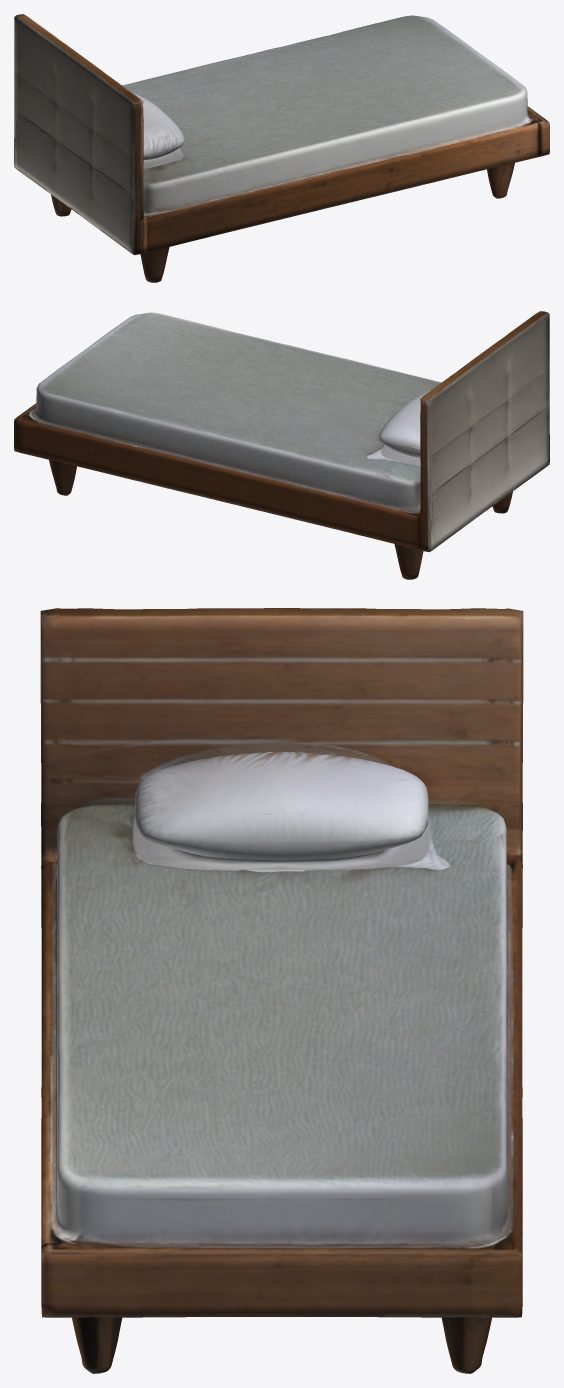
The model's file is bed-1.glb.
3 views of the same model, one above another, from view 1: azimuth 30°, elevation 25°; view 2: azimuth 150°, elevation 25°; view 3: azimuth 270°, elevation 25° (orthographic). The views are drawn at different scales.
Visible parts, largest first — view 1: Mesh1_Mesh1.024; view 2: Mesh1_Mesh1.024; view 3: Mesh1_Mesh1.024.
Boxes of the visible parts, bbox=[...] form: Mesh1_Mesh1.024: bbox=[14, 14, 549, 282]; Mesh1_Mesh1.024: bbox=[14, 311, 549, 579]; Mesh1_Mesh1.024: bbox=[40, 608, 523, 1373].
Bounding box in the file's own units: 2 × 0.9014 × 1.01.
1 material, 1 textured.
